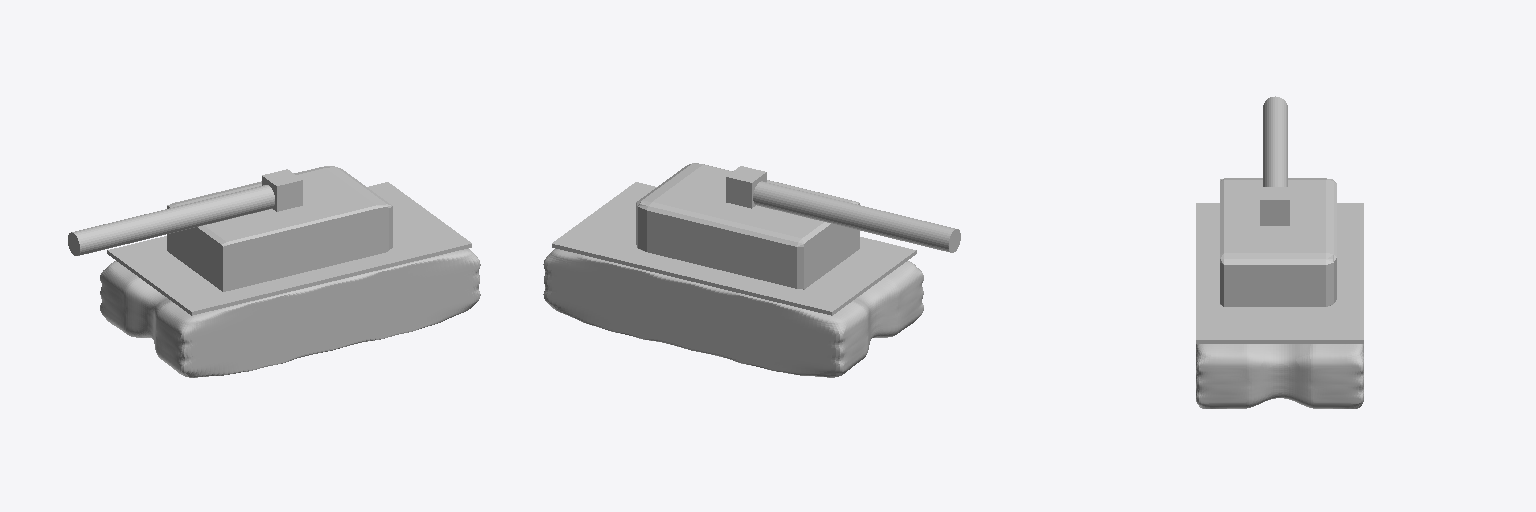
Rendered from yellow.obj.
The picture shows the model from 3 angles: view 1: azimuth 30°, elevation 25°; view 2: azimuth 150°, elevation 25°; view 3: azimuth 270°, elevation 25°; orthographic projection.
Visible parts, largest first — view 1: TANK.002_TANK_Cube.001; view 2: TANK.002_TANK_Cube.001; view 3: TANK.002_TANK_Cube.001.
Boxes of the visible parts, x1,y1,x2,y2 form: TANK.002_TANK_Cube.001: [68, 166, 480, 377]; TANK.002_TANK_Cube.001: [543, 163, 960, 377]; TANK.002_TANK_Cube.001: [1196, 96, 1363, 408].
Size of the model in its own units: 5.05 by 1.94 by 2.